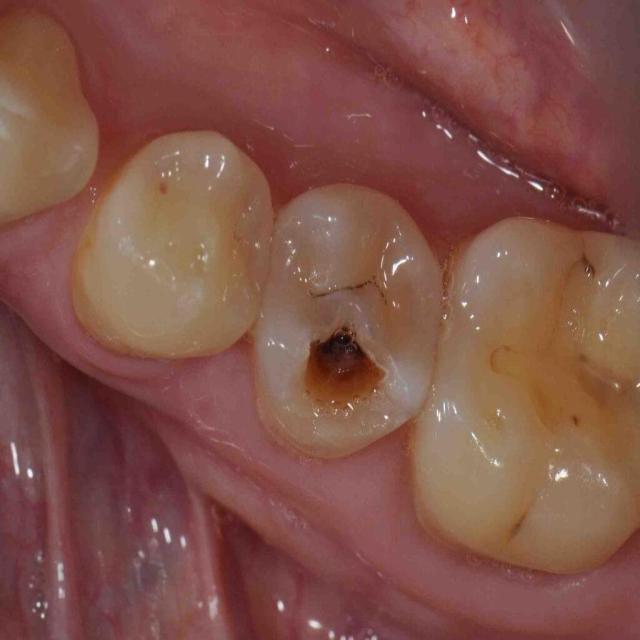Caries: (321, 334, 366, 357)
Cavity: (306, 325, 385, 405)
Tooth: (410, 219, 639, 578), (252, 184, 445, 452), (71, 129, 274, 361), (0, 11, 99, 221)
